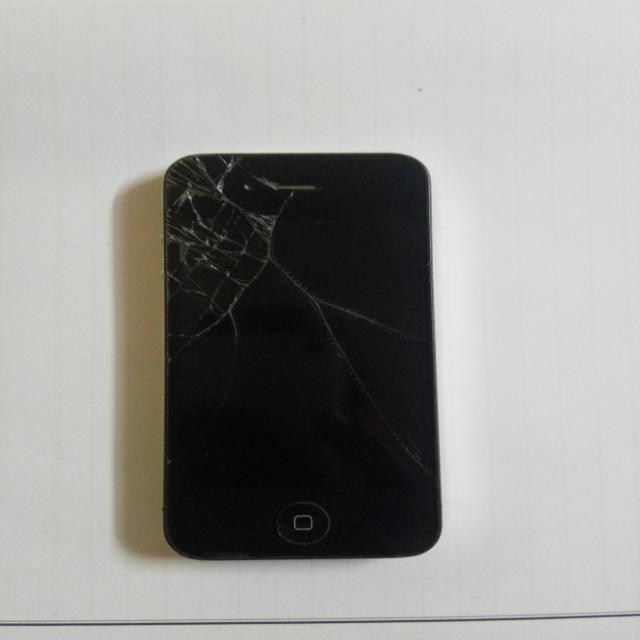Crack: (163, 153, 383, 365)
